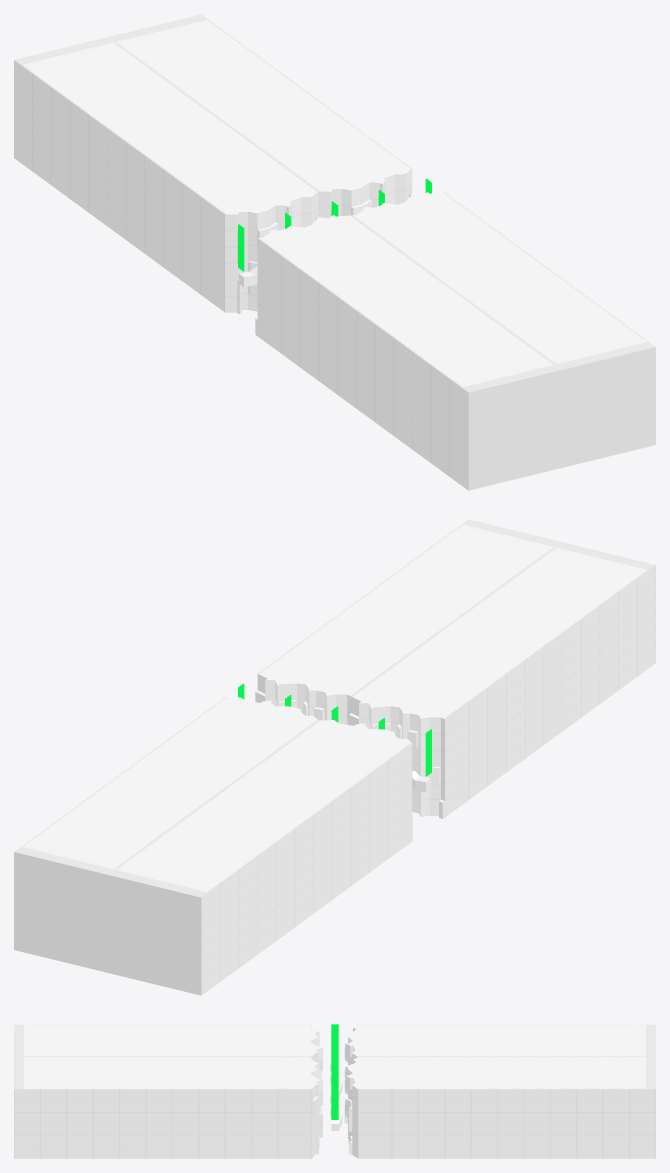
File: 1cycles.glb
3 views of the same model, one above another, from view 1: azimuth 30°, elevation 25°; view 2: azimuth 150°, elevation 25°; view 3: azimuth 270°, elevation 25° (orthographic). The views are drawn at different scales.
Visible parts, largest first — view 1: S_Plane.005, S_Plane.007; view 2: S_Plane.005, S_Plane.007; view 3: S_Plane.007, S_Plane.005, S_path.005, K_glass1.031.
Part boxes in pixels (left/top/right/bottom): S_Plane.005: left=14, top=37, right=562, bottom=490; S_Plane.007: left=108, top=14, right=655, bottom=467; S_Plane.005: left=107, top=542, right=655, bottom=995; S_Plane.007: left=14, top=519, right=561, bottom=972; S_Plane.007: left=14, top=1057, right=655, bottom=1158; S_Plane.005: left=14, top=1024, right=655, bottom=1104; S_path.005: left=330, top=1095, right=342, bottom=1130; K_glass1.031: left=331, top=1089, right=338, bottom=1119.
Bounding box in the file's own units: 40.2 × 20 × 168.
Materials: 2 (1 with a texture image).
